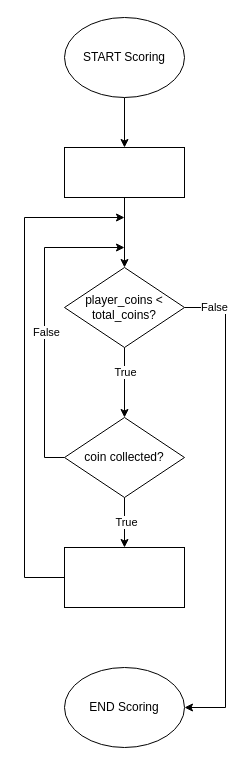
Image size: 251x765. Some labels were removed from this diagram. Here are the shapes that lost their labels. From the top down, the centre of each, then its label:
point (124, 172): DISPLAY total_coins - player_coins
point (124, 577): player_coins + 1
